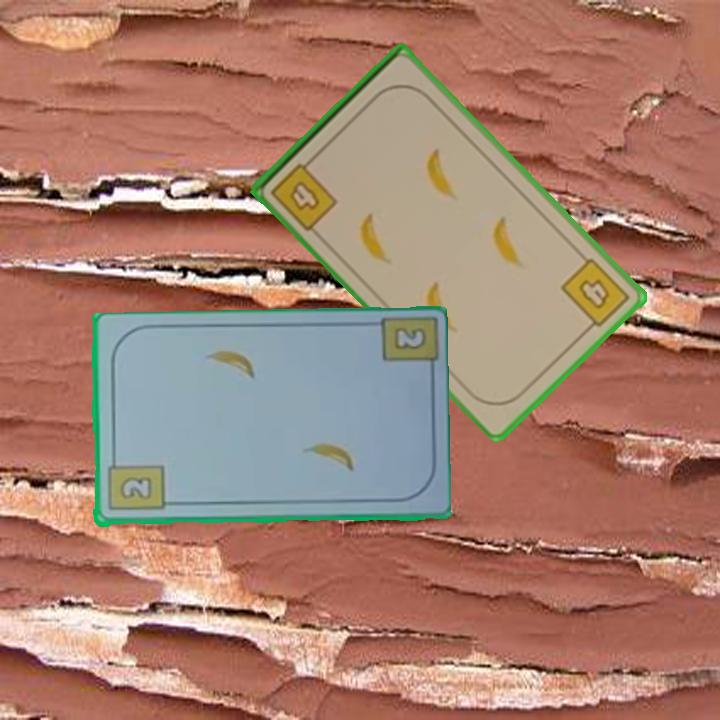2b: (104, 453, 166, 514), (389, 324, 430, 353)
4b: (557, 254, 633, 336), (267, 152, 341, 234)
